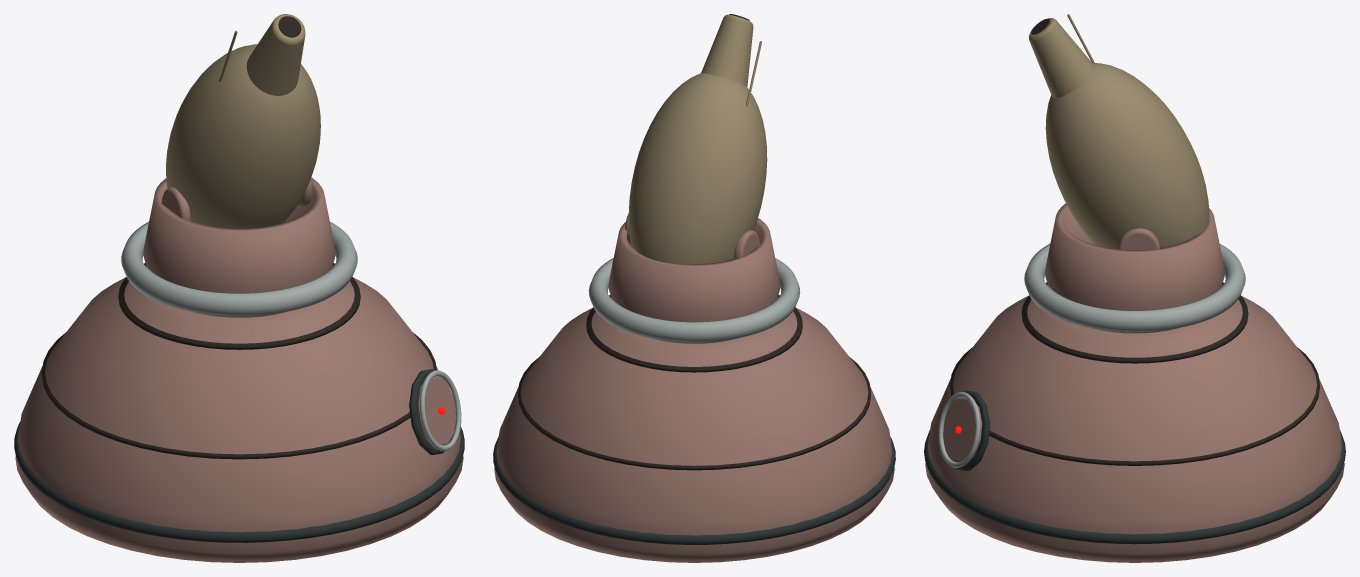
3 renders of one model, left to right at view 1: azimuth 30°, elevation 25°; view 2: azimuth 150°, elevation 25°; view 3: azimuth 270°, elevation 25°, orthographic. The views are drawn at different scales.
Visible parts, largest first — view 1: Research rounded elastoplastic armour, Research strengthened egg barrel, Research swivelling weapon cup, Azimuth race flange, Pedestal foundation joint, Research tapered photon nozzle, Research armour horizontal seam.001, Research armour horizontal seam.002, Pedestal systems hatch lid, Pedestal systems hatch rim, Pedestal systems hatch dark gasket, Research barrel lower trunnion; view 2: Research rounded elastoplastic armour, Research strengthened egg barrel, Research swivelling weapon cup, Azimuth race flange, Pedestal foundation joint, Research tapered photon nozzle, Research armour horizontal seam.001, Research armour horizontal seam.002; view 3: Research rounded elastoplastic armour, Research strengthened egg barrel, Research swivelling weapon cup, Azimuth race flange, Pedestal foundation joint, Research tapered photon nozzle, Research armour horizontal seam.001, Research armour horizontal seam.002, Pedestal systems hatch lid, Pedestal systems hatch rim, Pedestal systems hatch dark gasket, Research barrel lower trunnion.001.
Boxes of the visible parts, x1,y1,x2,y2 form: Research rounded elastoplastic armour: (15, 266, 463, 562); Research strengthened egg barrel: (166, 44, 320, 228); Research swivelling weapon cup: (143, 178, 335, 317); Azimuth race flange: (121, 221, 357, 315); Pedestal foundation joint: (14, 421, 464, 542); Research tapered photon nozzle: (246, 14, 305, 95); Research armour horizontal seam.001: (41, 332, 436, 459); Research armour horizontal seam.002: (118, 263, 360, 349); Pedestal systems hatch lid: (417, 376, 456, 446); Pedestal systems hatch rim: (419, 370, 461, 451); Pedestal systems hatch dark gasket: (409, 369, 451, 454); Research barrel lower trunnion: (161, 187, 190, 220); Research rounded elastoplastic armour: (494, 298, 894, 562); Research strengthened egg barrel: (628, 73, 767, 264); Research swivelling weapon cup: (608, 218, 780, 343); Azimuth race flange: (588, 258, 800, 342); Pedestal foundation joint: (493, 437, 895, 544); Research tapered photon nozzle: (701, 14, 753, 86); Research armour horizontal seam.001: (518, 356, 870, 470); Research armour horizontal seam.002: (586, 295, 802, 372); Research rounded elastoplastic armour: (925, 285, 1344, 562); Research strengthened egg barrel: (1045, 63, 1209, 248); Research swivelling weapon cup: (1045, 203, 1224, 333); Azimuth race flange: (1024, 244, 1245, 331); Pedestal foundation joint: (924, 430, 1345, 544); Research tapered photon nozzle: (1029, 18, 1094, 98); Research armour horizontal seam.001: (950, 347, 1319, 465); Research armour horizontal seam.002: (1021, 282, 1248, 363); Pedestal systems hatch lid: (943, 397, 982, 462); Pedestal systems hatch rim: (938, 392, 980, 467); Pedestal systems hatch dark gasket: (948, 390, 990, 470); Research barrel lower trunnion.001: (1118, 228, 1159, 249).
Size of the model in its own units: 2.01 by 2.41 by 2.01.
